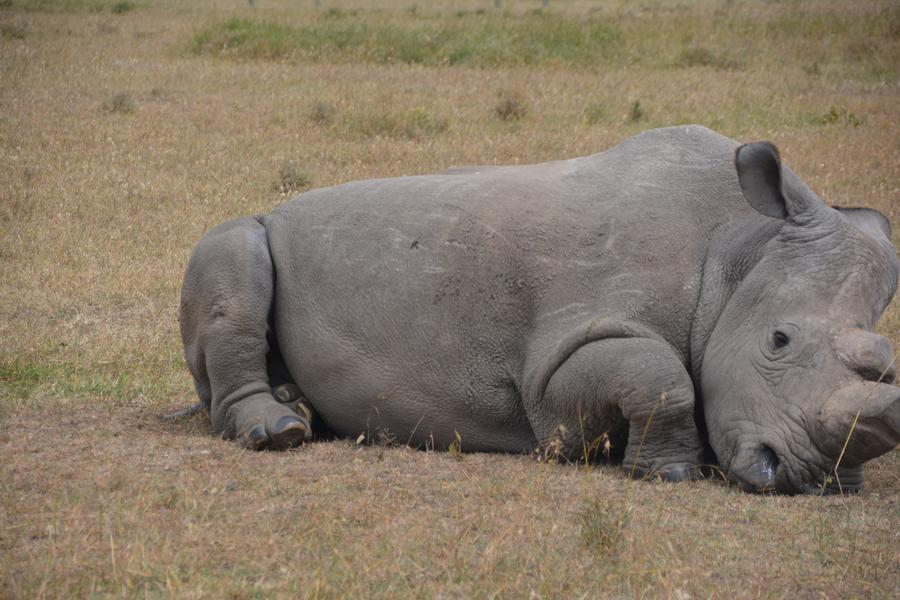rhino: (207, 127, 872, 499)
